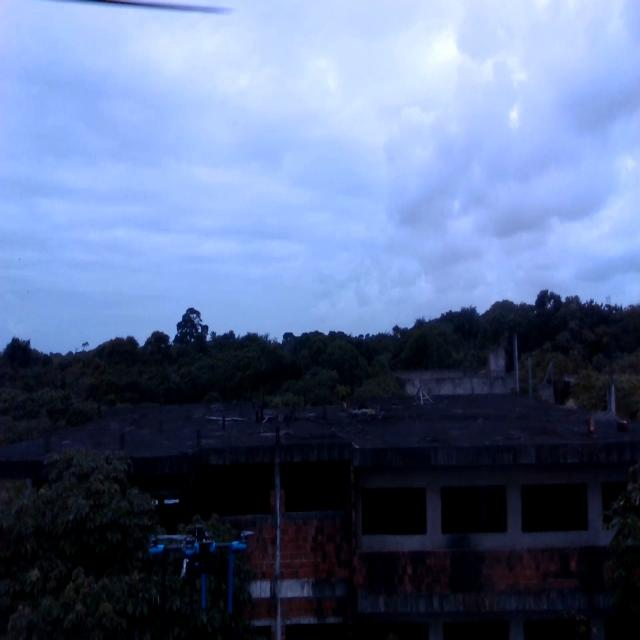-uav-: (143, 513, 262, 625)
